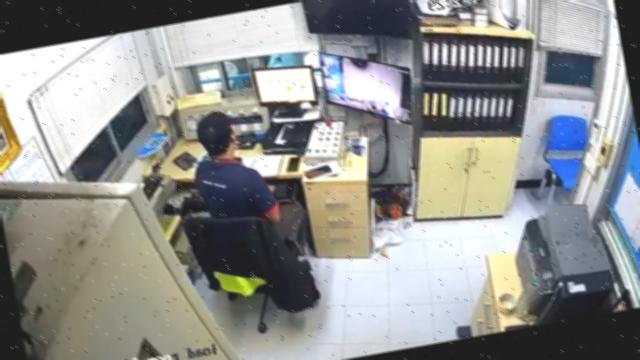Head: (195, 112, 235, 157)
People: (193, 112, 304, 238)
Phone: (302, 165, 332, 178), (285, 157, 301, 172)
